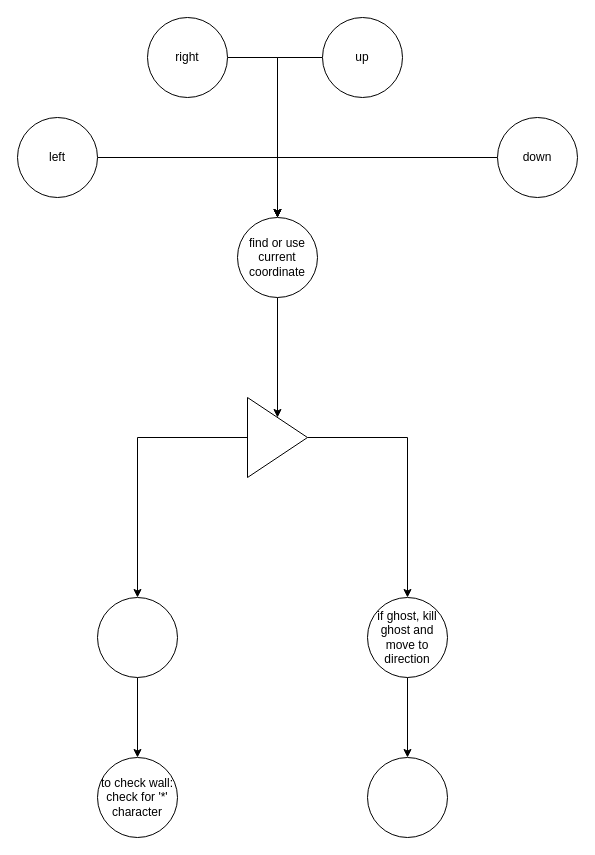
Image size: 595x855. Some labels were removed from this diagram. Each missing label, with the box of its shape:
check direction for wall or alive ghost: (246, 396, 308, 478)
if wall, then don't take action: repeat input and don't increment game loop: (96, 596, 178, 678)
to kill ghost, set character to '#': (366, 756, 448, 838)
